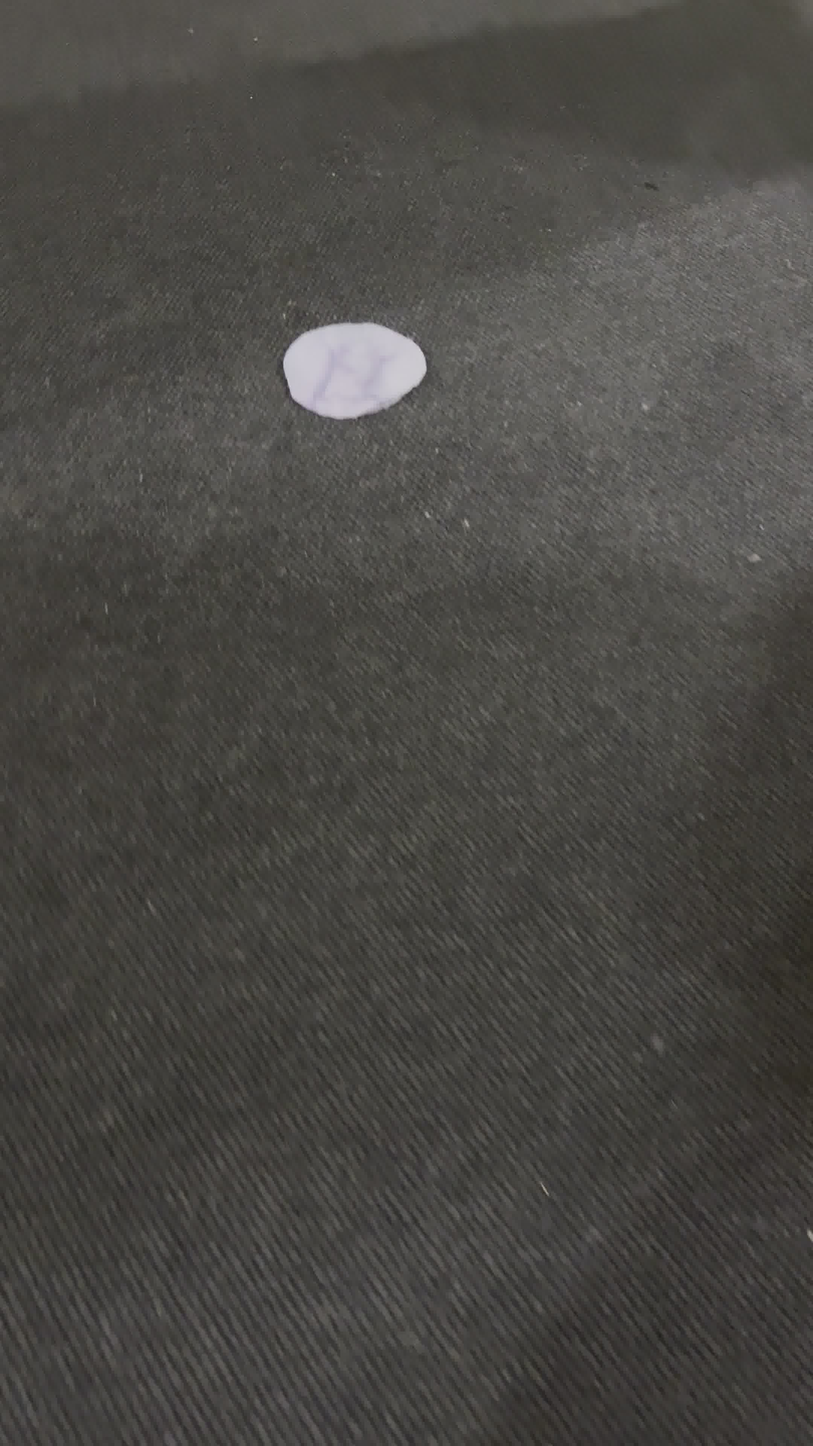Target: (283, 323, 426, 420)
